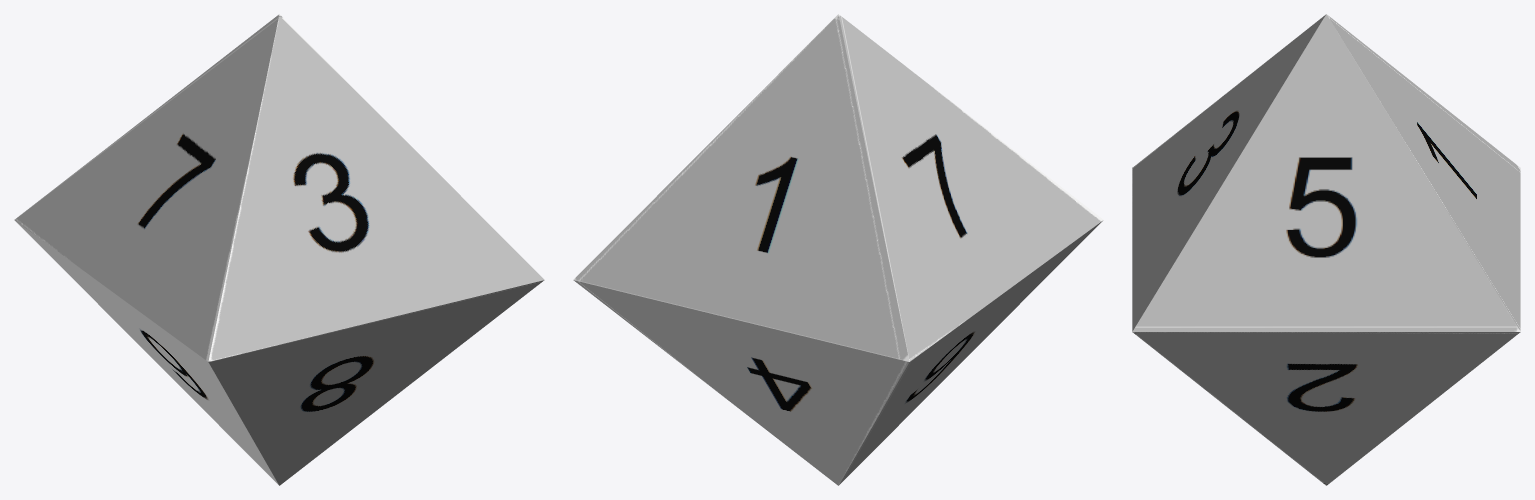
3 renders of one model, left to right at view 1: azimuth 30°, elevation 25°; view 2: azimuth 150°, elevation 25°; view 3: azimuth 270°, elevation 25°, orthographic.
Parts seen in each view (by area): view 1: D8; view 2: D8; view 3: D8.
Boxes of the visible parts, left/top/right/bottom form: D8: left=14, top=14, right=544, bottom=485; D8: left=573, top=14, right=1103, bottom=485; D8: left=1132, top=14, right=1520, bottom=485.
Size of the model in its own units: 100 by 134 by 100.
